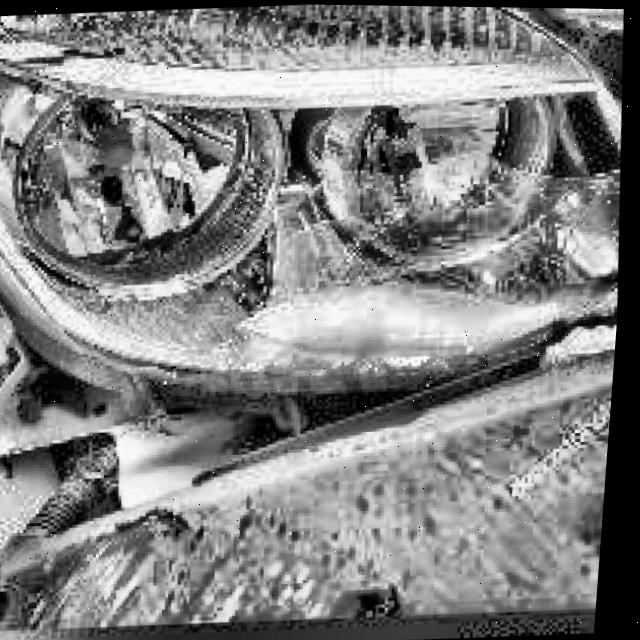head_lamp: (0, 0, 640, 409)
